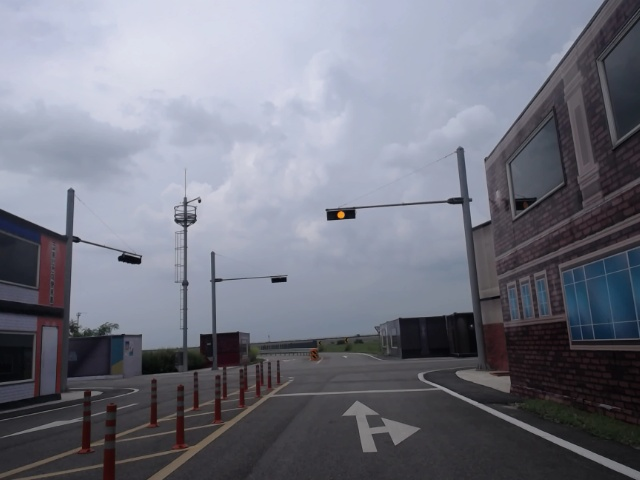orange_3: (326, 209, 356, 220)
